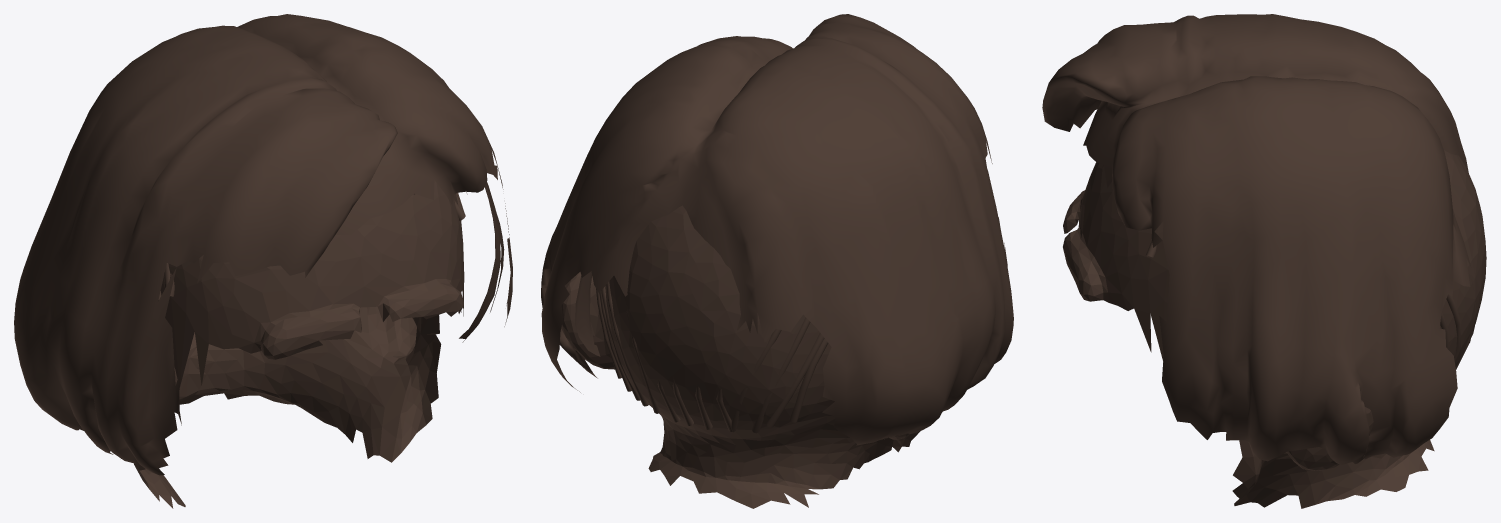
Rendered from bob.glb.
3 renders of one model, left to right at view 1: azimuth 30°, elevation 25°; view 2: azimuth 150°, elevation 25°; view 3: azimuth 270°, elevation 25°, orthographic. The views are drawn at different scales.
Parts seen in each view (by area): view 1: Hair, HairScalp; view 2: Hair, HairScalp, HairPulledRootStrands; view 3: Hair, HairScalp, HairPulledRootStrands.
Part boxes in pixels (x1,y1,x2,y2): Hair: (14, 14, 512, 475); HairScalp: (80, 181, 464, 508); Hair: (541, 14, 1013, 445); HairScalp: (561, 205, 920, 508); HairPulledRootStrands: (596, 281, 828, 433); Hair: (1042, 14, 1471, 464); HairScalp: (1063, 150, 1486, 508); HairPulledRootStrands: (1146, 240, 1476, 369).
Bounding box in the file's own units: 0.512 × 0.4757 × 0.4518.
